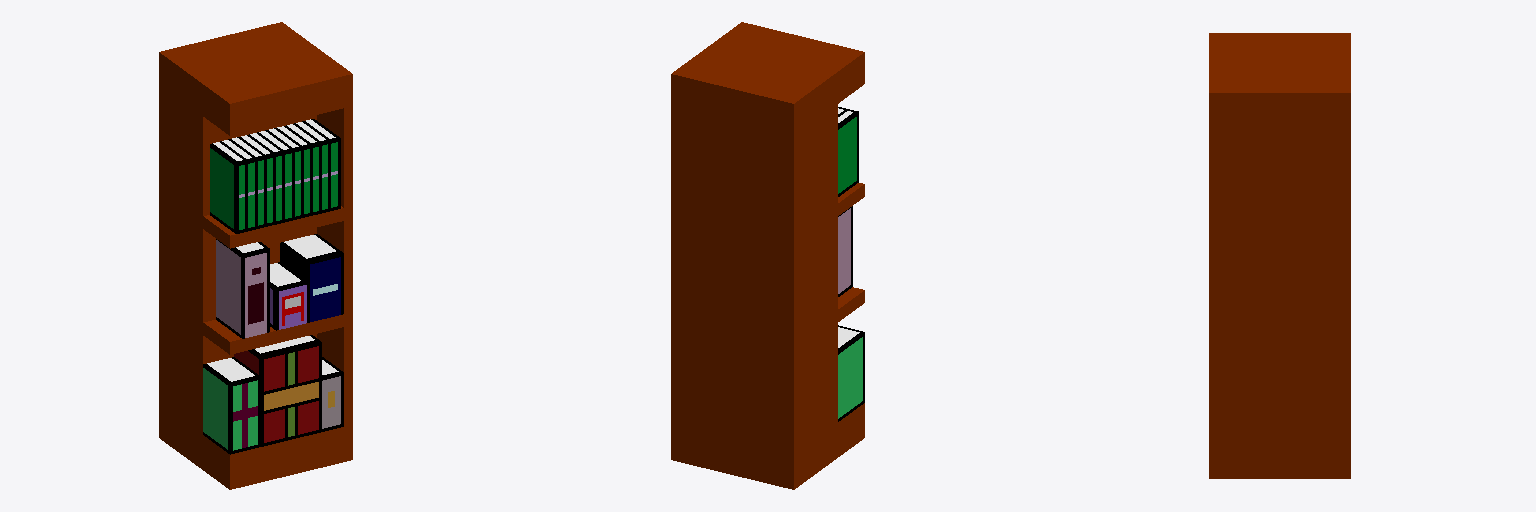
3 renders of one model, left to right at view 1: azimuth 30°, elevation 25°; view 2: azimuth 150°, elevation 25°; view 3: azimuth 270°, elevation 25°, orthographic.
Visible parts, largest first — view 1: object 1; view 2: object 1; view 3: object 1.
Boxes of the visible parts, x1,y1,x2,y2 form: object 1: [159, 22, 352, 489]; object 1: [671, 22, 864, 489]; object 1: [1209, 33, 1350, 478].
Bounding box in the file's own units: 4 × 12 × 4.
Materials: 1 (1 with a texture image).